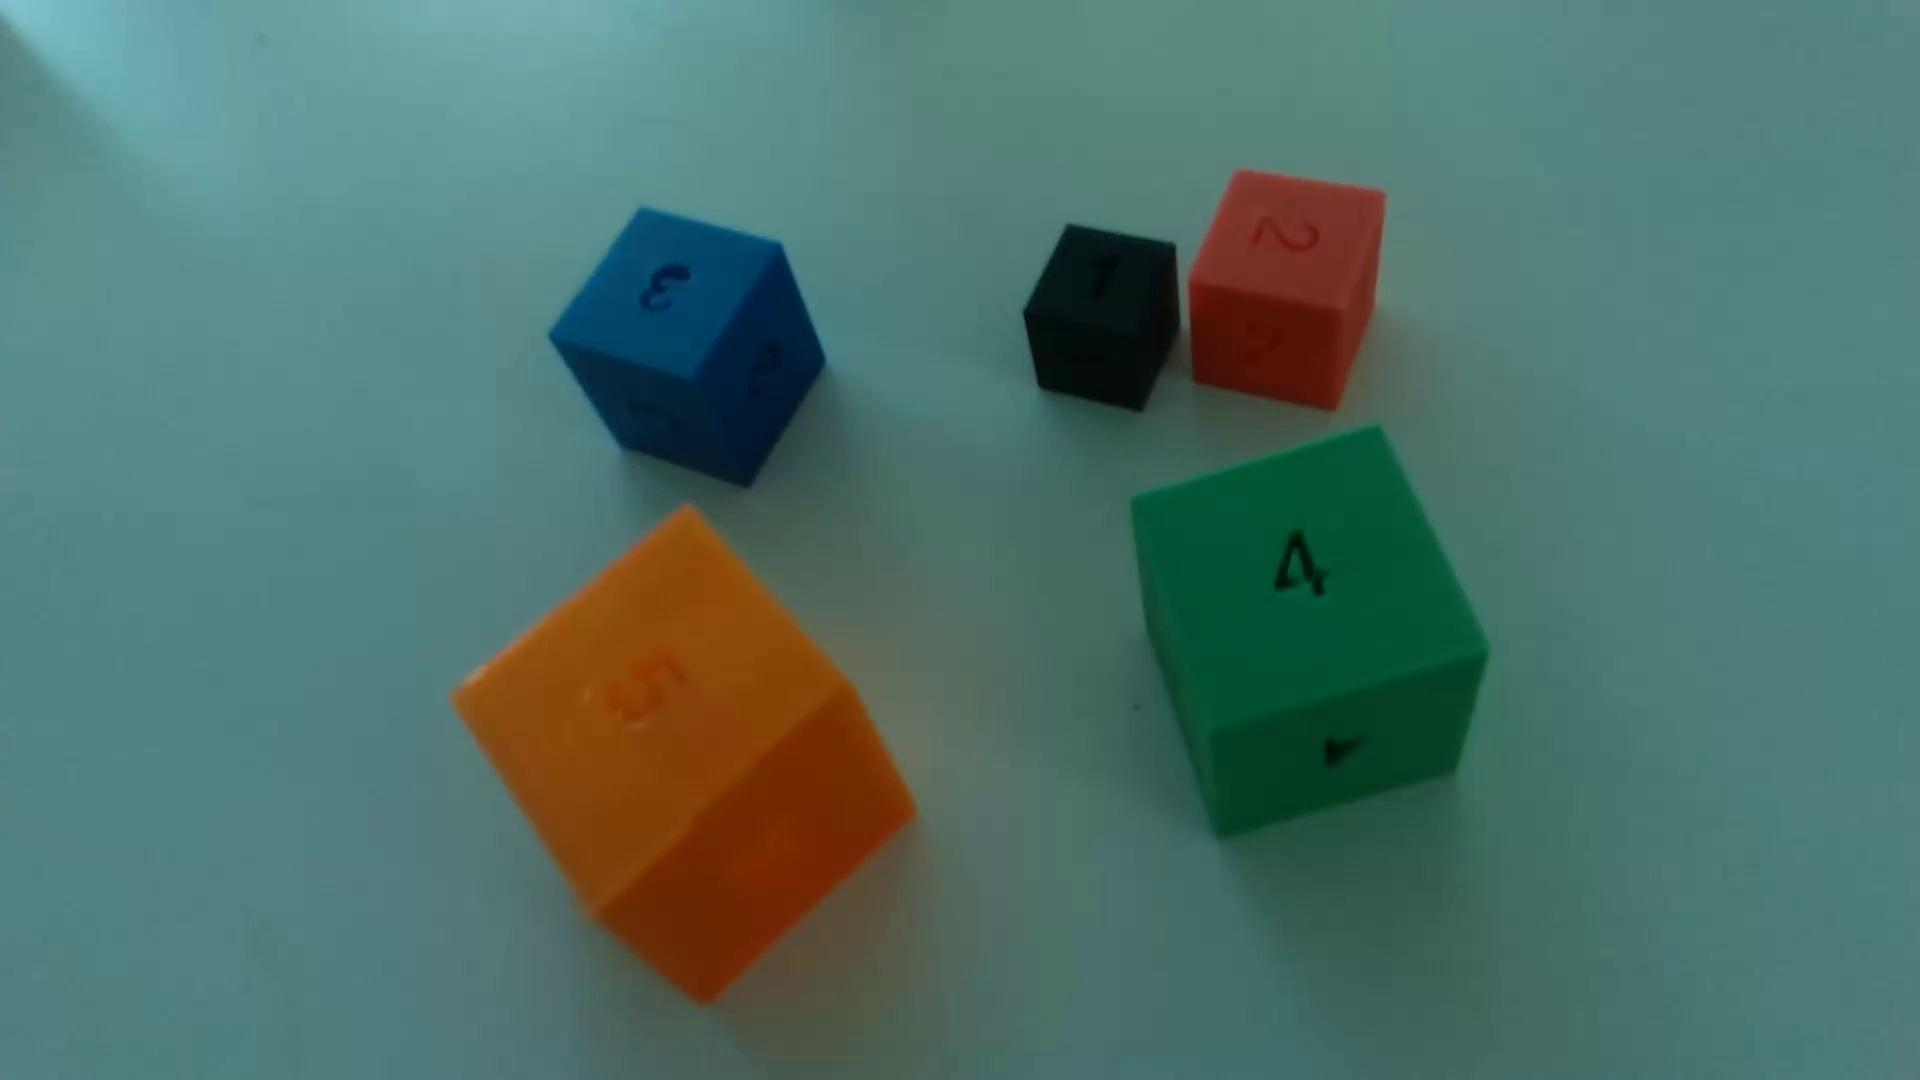black: (1023, 225, 1182, 413)
blue: (549, 208, 825, 487)
green: (1131, 429, 1487, 835)
orange: (454, 509, 913, 1001)
red: (1187, 171, 1386, 411)
